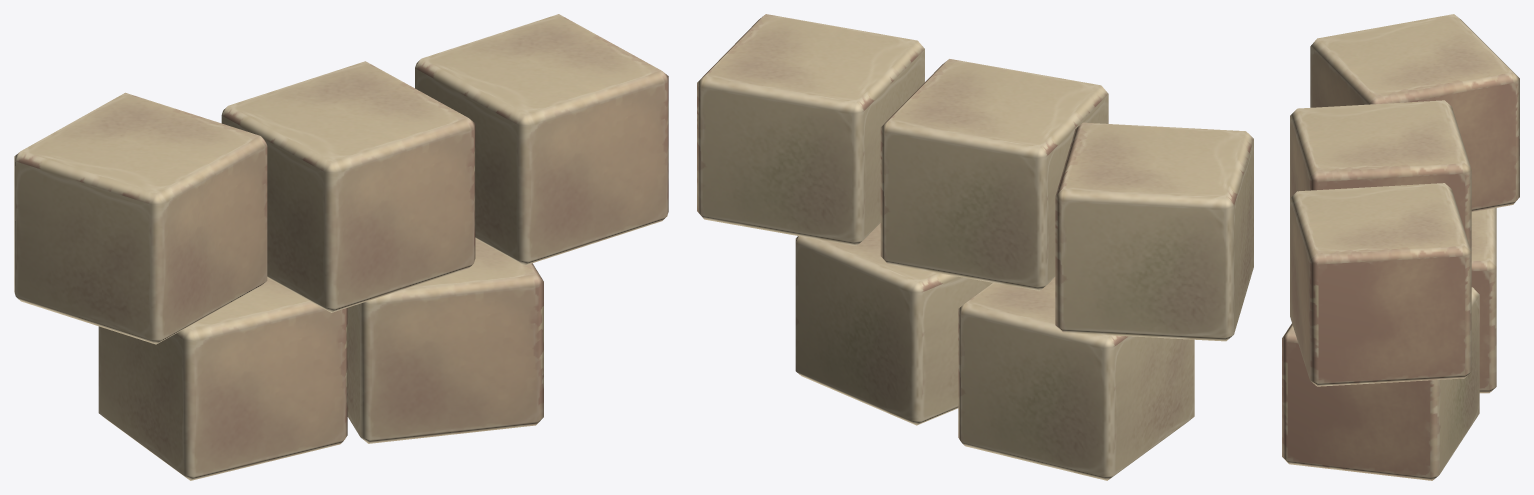
3 renders of one model, left to right at view 1: azimuth 30°, elevation 25°; view 2: azimuth 150°, elevation 25°; view 3: azimuth 270°, elevation 25°, orthographic. The views are drawn at different scales.
Parts seen in each view (by area): view 1: brick4_LOD0; view 2: brick4_LOD0; view 3: brick4_LOD0.
Boxes of the visible parts, x1,y1,x2,y2 form: brick4_LOD0: [14, 14, 668, 480]; brick4_LOD0: [697, 14, 1253, 480]; brick4_LOD0: [1282, 14, 1519, 480].
Bounding box in the file's own units: 1.54 × 0.7871 × 0.6277.
